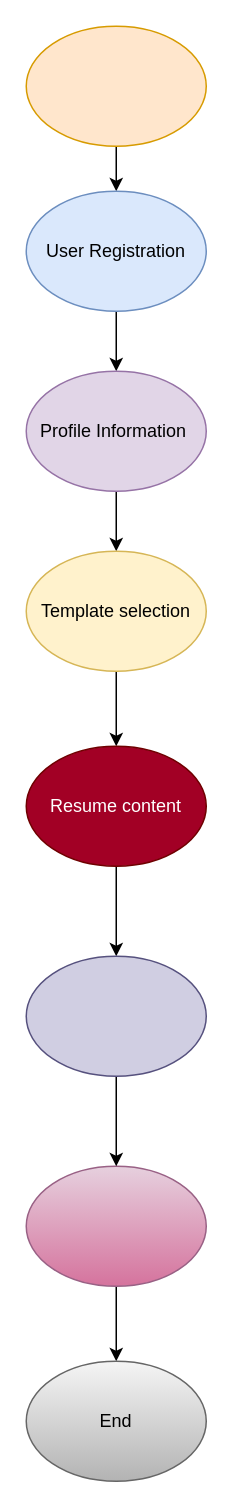
Image size: 233x1508. Some labels were removed from this diagram. The shapes that lost their labels are listed below. From the top down, each one's box as (x1, y1, x2, y2) in pixels, then its label:
(25, 25, 206, 146): Start
(25, 955, 206, 1076): Pre iew Resume
(25, 1165, 206, 1286): Download or Export Resume
